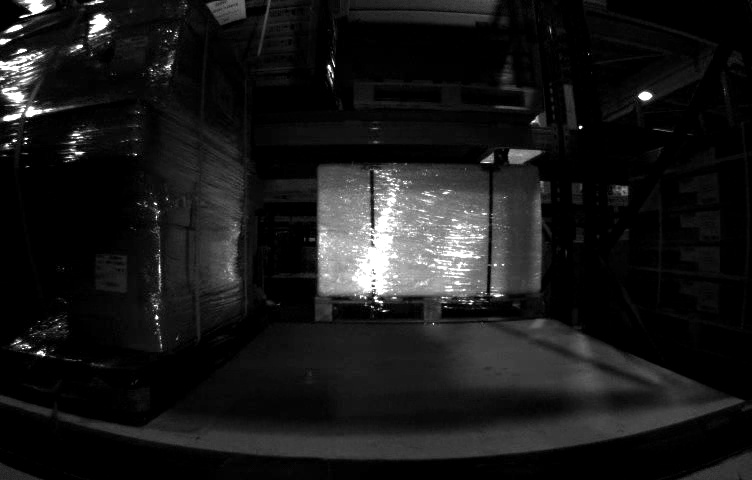True Barcode: (95, 254, 128, 296)
